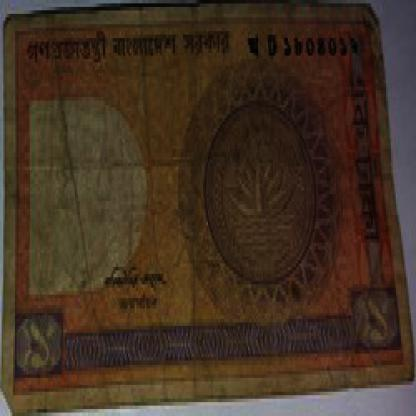One Taka: (346, 66, 384, 260), (15, 316, 62, 375), (353, 291, 399, 350)
